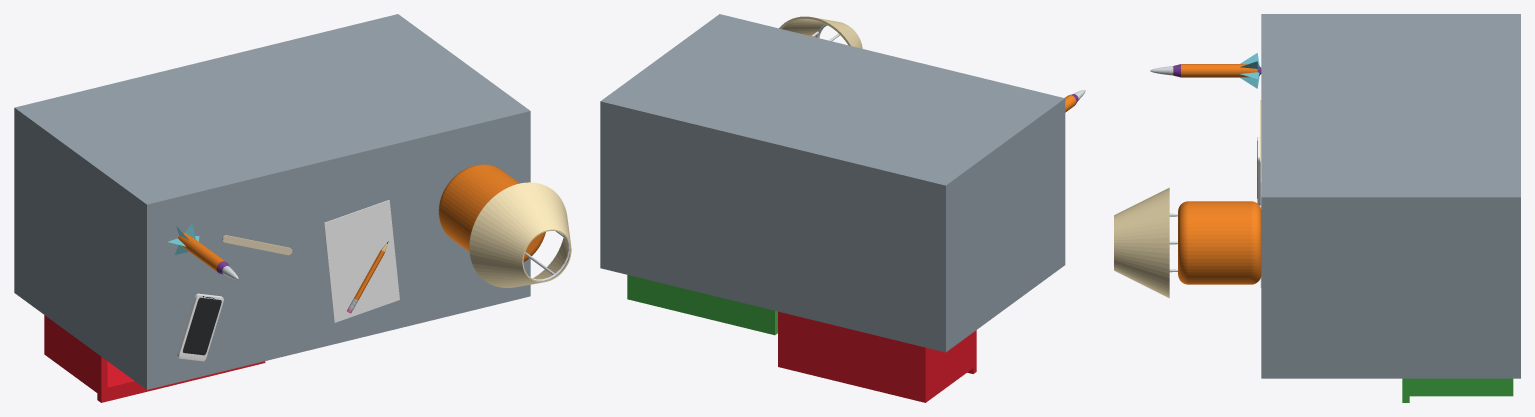
File: night-stand (.obj).obj
3 renders of one model, left to right at view 1: azimuth 30°, elevation 25°; view 2: azimuth 150°, elevation 25°; view 3: azimuth 270°, elevation 25°, orthographic. The views are drawn at different scales.
Visible parts, largest first — view 1: group_0_10069936, group_0_16311991, group_0_16777215, group_0_16089887, group_0_15277357, group_0_2829873, group_0_16448250, group_0_15457468; view 2: group_0_10069936, group_0_15277357, group_0_4634441, group_0_16311991; view 3: group_0_10069936, group_0_16089887, group_0_16311991, group_0_4634441, group_0_7720667.
Part boxes in pixels (box(x1,y1,x2,y2)): group_0_10069936: box(14, 14, 530, 389); group_0_16311991: box(469, 182, 571, 287); group_0_16777215: box(324, 200, 399, 322); group_0_16089887: box(178, 164, 545, 300); group_0_15277357: box(44, 315, 265, 402); group_0_2829873: box(183, 241, 388, 355); group_0_16448250: box(177, 293, 223, 361); group_0_15457468: box(222, 235, 292, 255); group_0_10069936: box(600, 14, 1065, 352); group_0_15277357: box(778, 311, 976, 402); group_0_4634441: box(627, 275, 777, 335); group_0_16311991: box(779, 16, 862, 48); group_0_10069936: box(1261, 14, 1520, 378); group_0_16089887: box(1178, 64, 1261, 284); group_0_16311991: box(1114, 187, 1169, 298); group_0_4634441: box(1402, 378, 1513, 402); group_0_7720667: box(1240, 53, 1259, 88).
Size of the model in its own units: 58.5 by 37.5 by 54.88.
